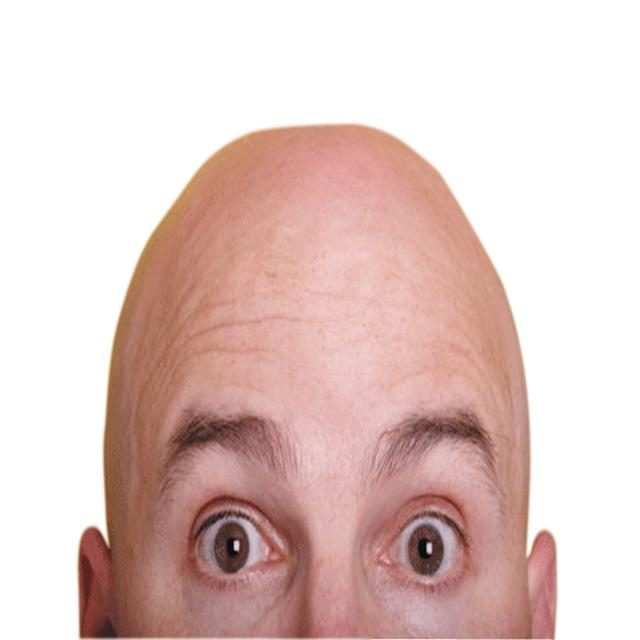no_helmet: (63, 80, 557, 539)
